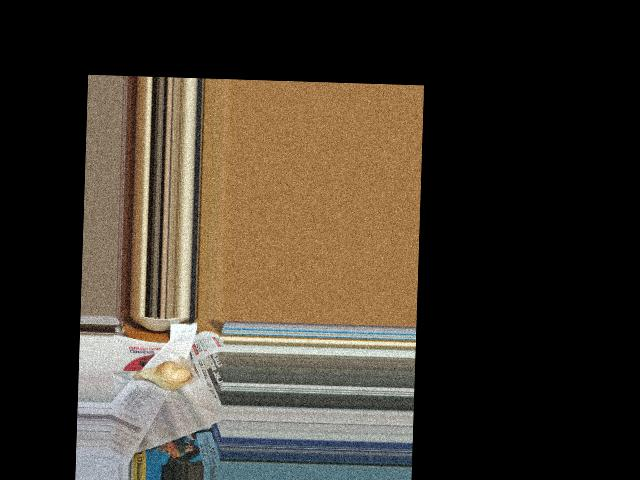onion: (139, 362, 191, 392)
